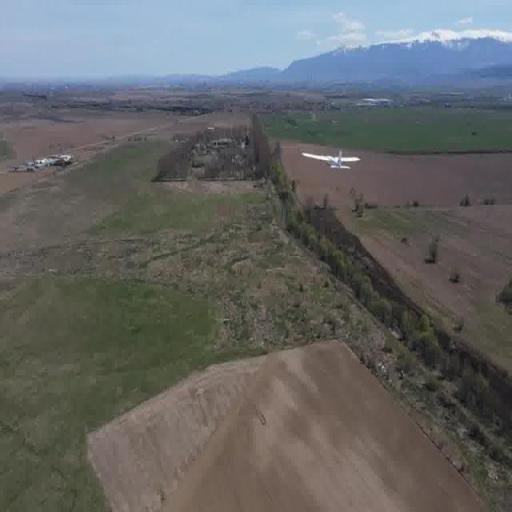uav: (301, 142, 363, 182)
